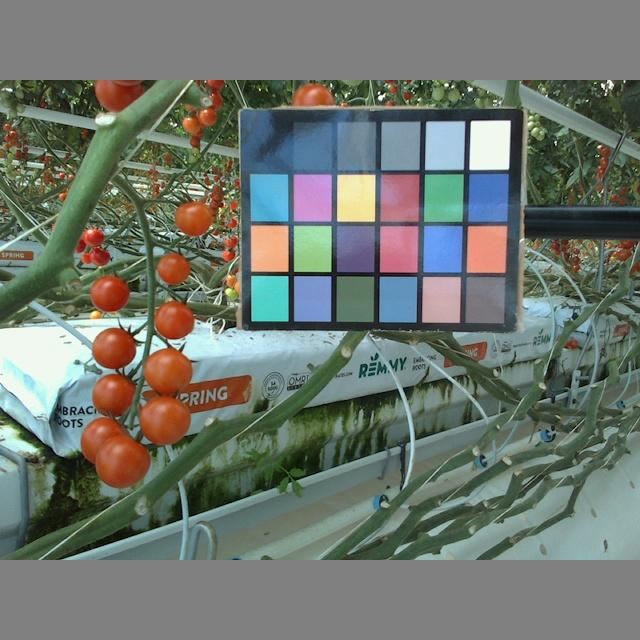red: (94, 430, 152, 488), (139, 394, 191, 443), (142, 348, 196, 395), (90, 373, 141, 419), (91, 327, 138, 371), (154, 299, 195, 339), (88, 274, 130, 312), (173, 202, 213, 235), (155, 253, 194, 285)
